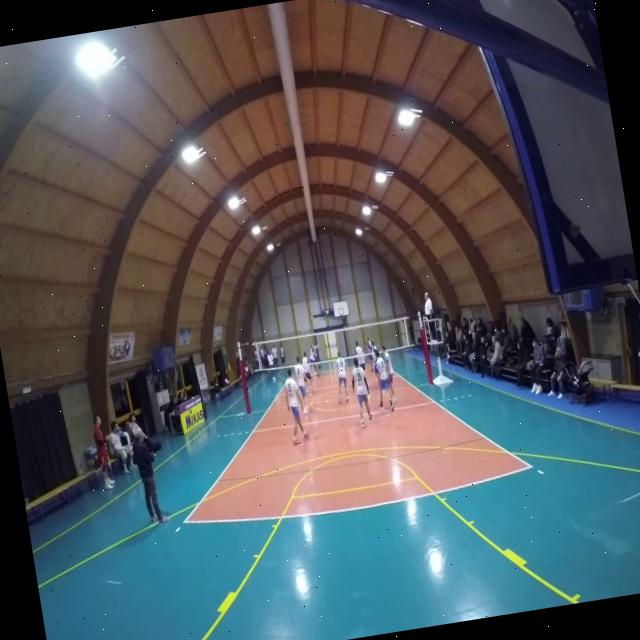Volleyball: (310, 314, 314, 322)
